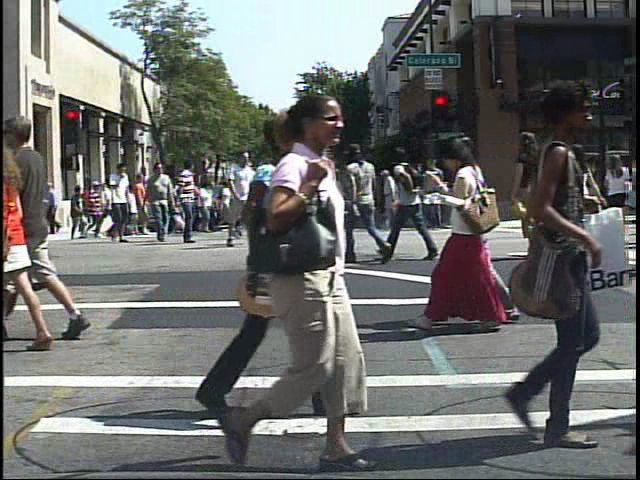person: (195, 83, 385, 479), (464, 79, 614, 462), (6, 102, 94, 343), (415, 133, 505, 335), (0, 126, 56, 351), (338, 135, 396, 272), (384, 139, 446, 266), (465, 128, 500, 342), (514, 129, 560, 262), (559, 137, 601, 260), (224, 146, 260, 252), (145, 158, 177, 245), (172, 157, 203, 246), (605, 147, 636, 230), (105, 161, 134, 244), (383, 164, 408, 236), (81, 178, 106, 242), (79, 183, 99, 229)
